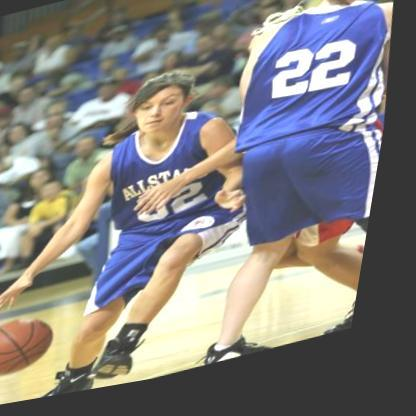basketball: (0, 312, 73, 387)
